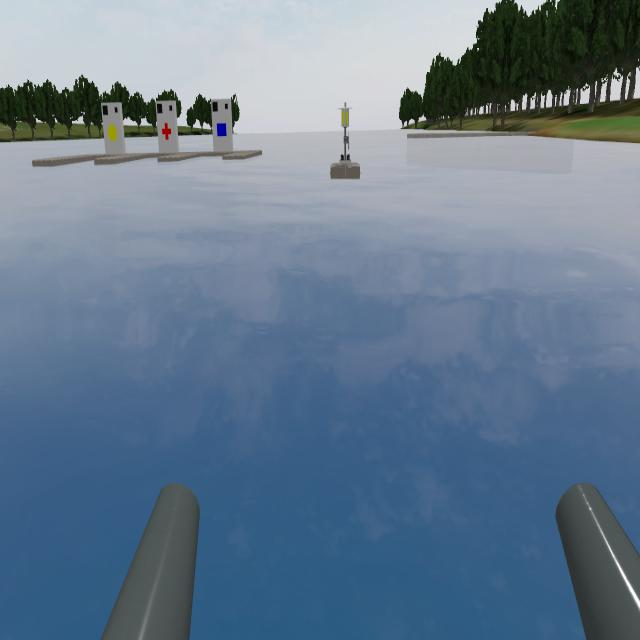yellow_pole: (338, 100, 354, 131)
